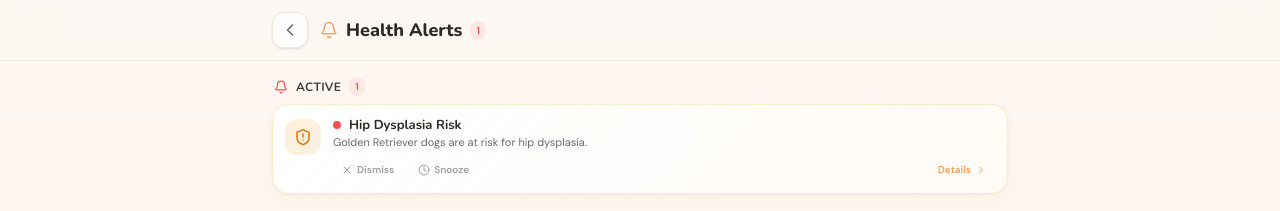
Test: AlertsPage › dismisses an alert when the dismiss button is clicked
The width and height of the screenshot is (1280, 211).
Expected: the heading "Hip Dysplasia Risk" is shown, [349, 117, 462, 133]
Click the button with aria-label "dismiss hip dysplasia risk alert".
click(368, 170)  # box [333, 158, 402, 181]
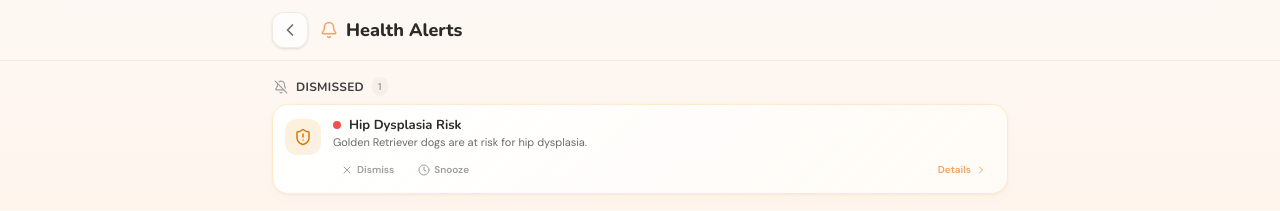
Now the heading "Dismissed" is shown, box [296, 78, 364, 94]
